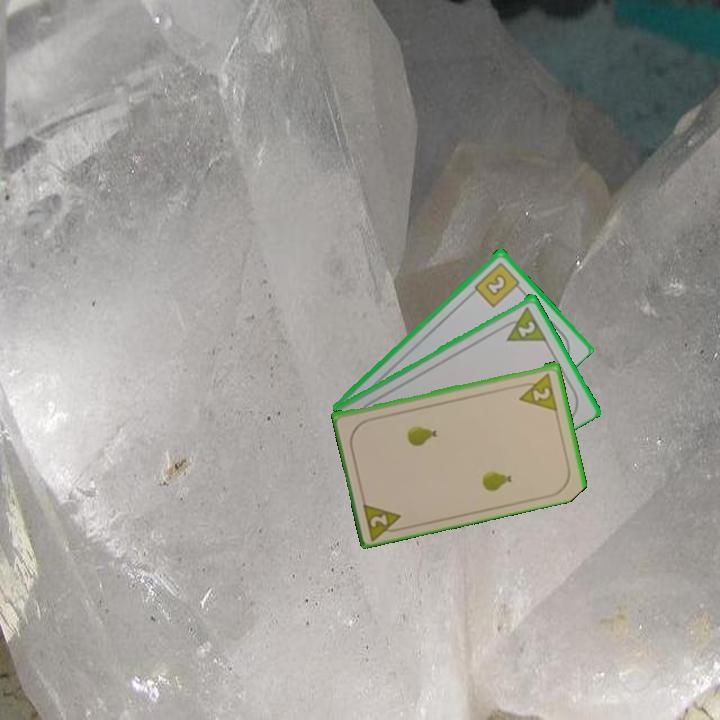2b: (471, 258, 525, 310)
2p: (359, 497, 408, 541), (497, 303, 549, 344), (530, 383, 553, 403)
